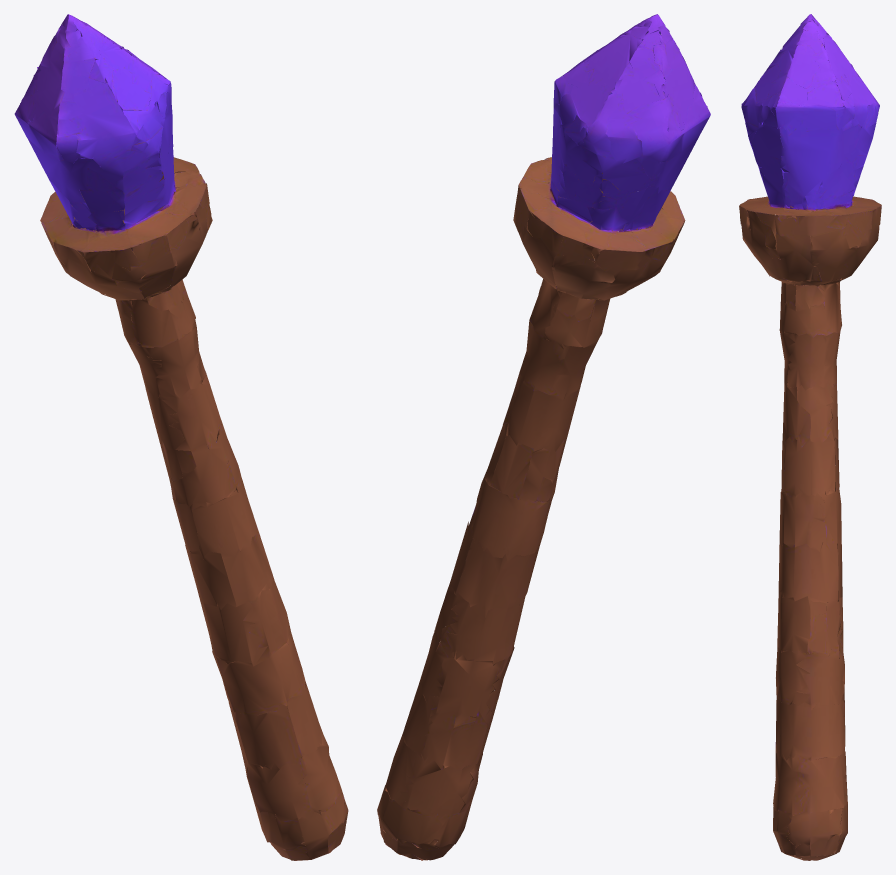
Rendered from staff.glb.
3 renders of one model, left to right at view 1: azimuth 30°, elevation 25°; view 2: azimuth 150°, elevation 25°; view 3: azimuth 270°, elevation 25°, orthographic. The views are drawn at different scales.
Parts seen in each view (by area): view 1: staff; view 2: staff; view 3: staff.
Part boxes in pixels (box(x1,y1,x2,y2)): staff: box(14, 14, 348, 860); staff: box(377, 14, 710, 860); staff: box(739, 14, 881, 860).
Bounding box in the file's own units: 0.6918 × 1.93 × 0.3338.
1 material, 1 textured.
